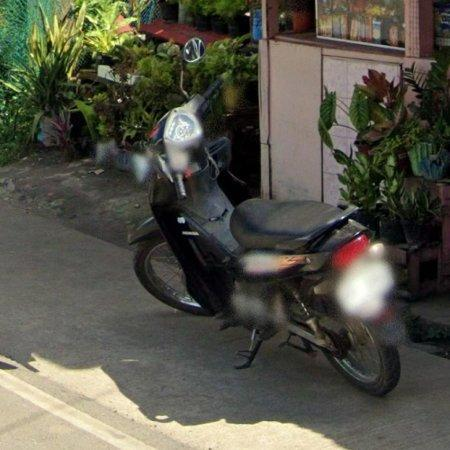motorcycles: (130, 38, 402, 396)
